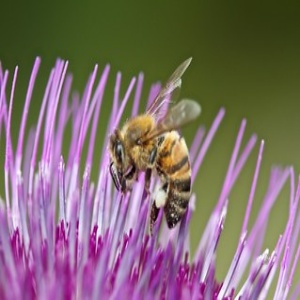bee: (108, 55, 203, 241)
